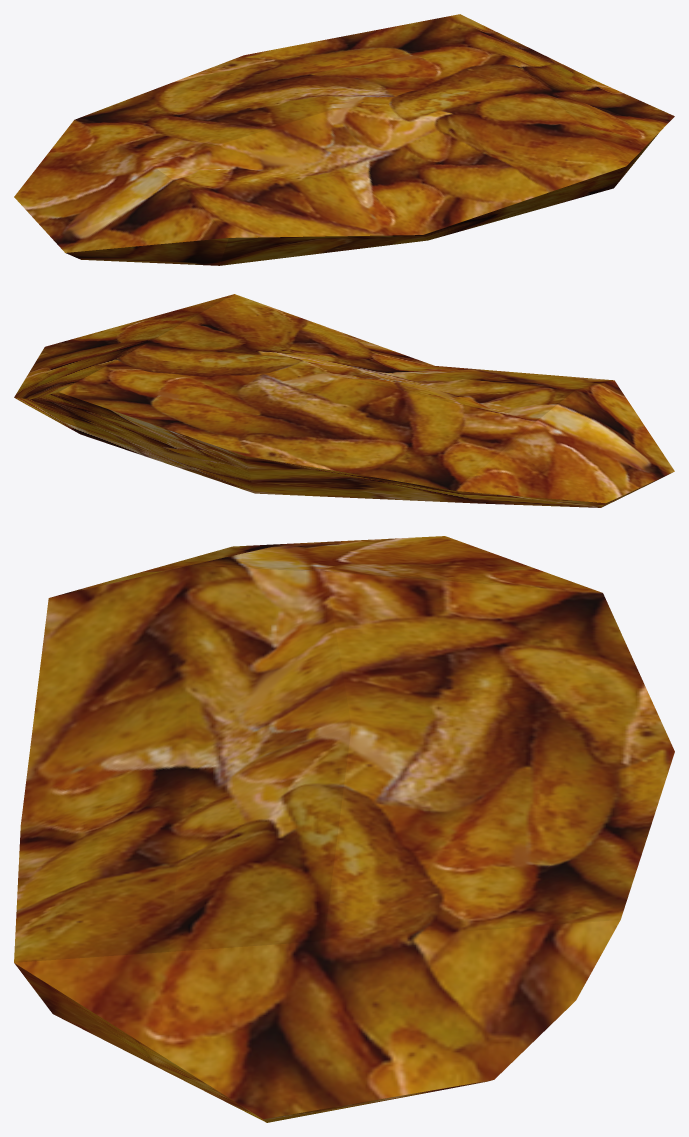
Rendered from f_WedgeFries_servingBasket.fbx.
The picture shows the model from 3 angles, top to bottom: view 1: azimuth 30°, elevation 25°; view 2: azimuth 150°, elevation 25°; view 3: azimuth 270°, elevation 25°; orthographic projection. The views are drawn at different scales.
Parts seen in each view (by area): view 1: f_fries_inServingbasket; view 2: f_fries_inServingbasket; view 3: f_fries_inServingbasket.
Part boxes in pixels (bbox=[...]): f_fries_inServingbasket: bbox=[14, 14, 674, 265]; f_fries_inServingbasket: bbox=[14, 294, 674, 507]; f_fries_inServingbasket: bbox=[14, 536, 674, 1122].
Bounding box in the file's own units: 25.35 × 48.67 × 5.31.
